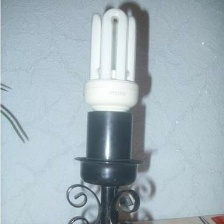light_bulb: (81, 3, 142, 117)
